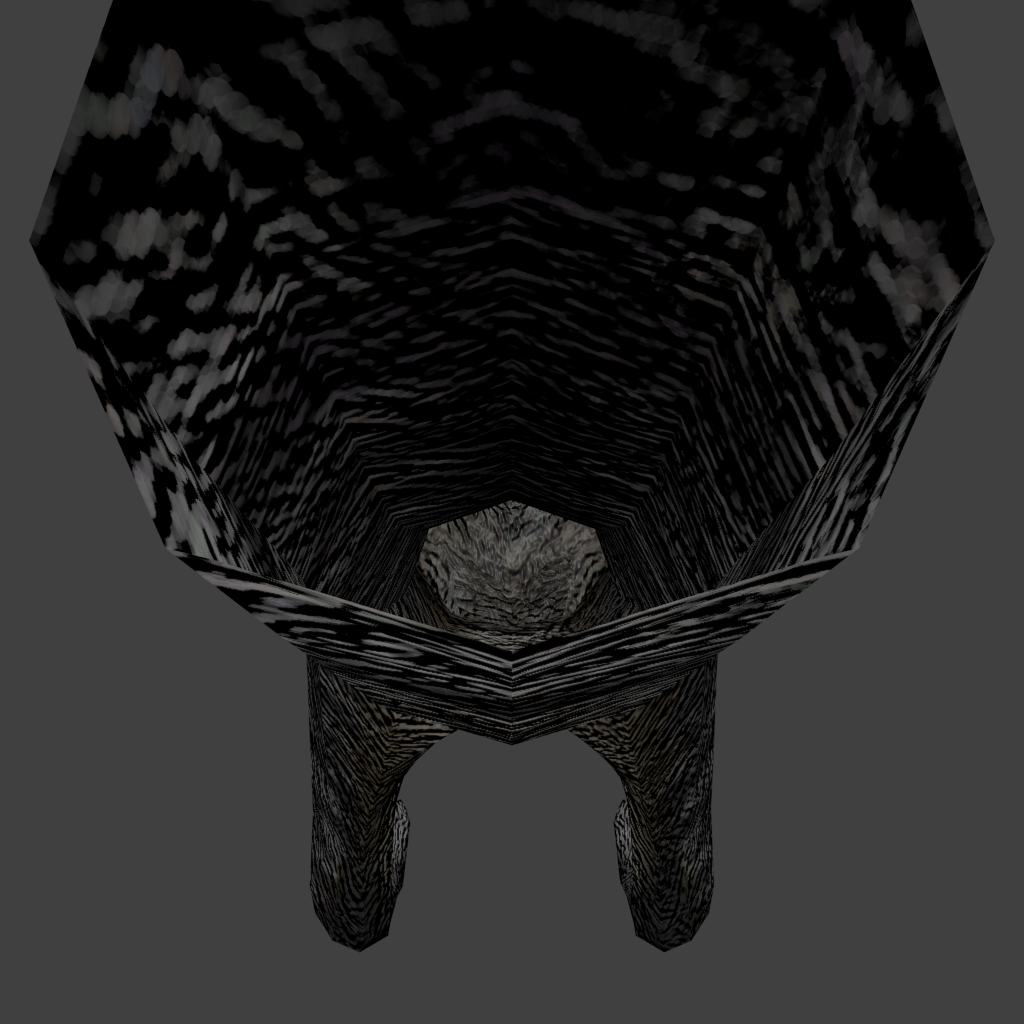Cat: (0, 0, 1024, 952)
